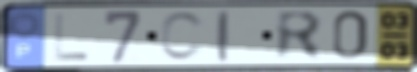0: (330, 9, 372, 63)
7: (103, 9, 144, 66)
C: (157, 9, 208, 63)
I: (214, 8, 231, 64)
L: (51, 12, 92, 63)
R: (274, 9, 326, 63)
